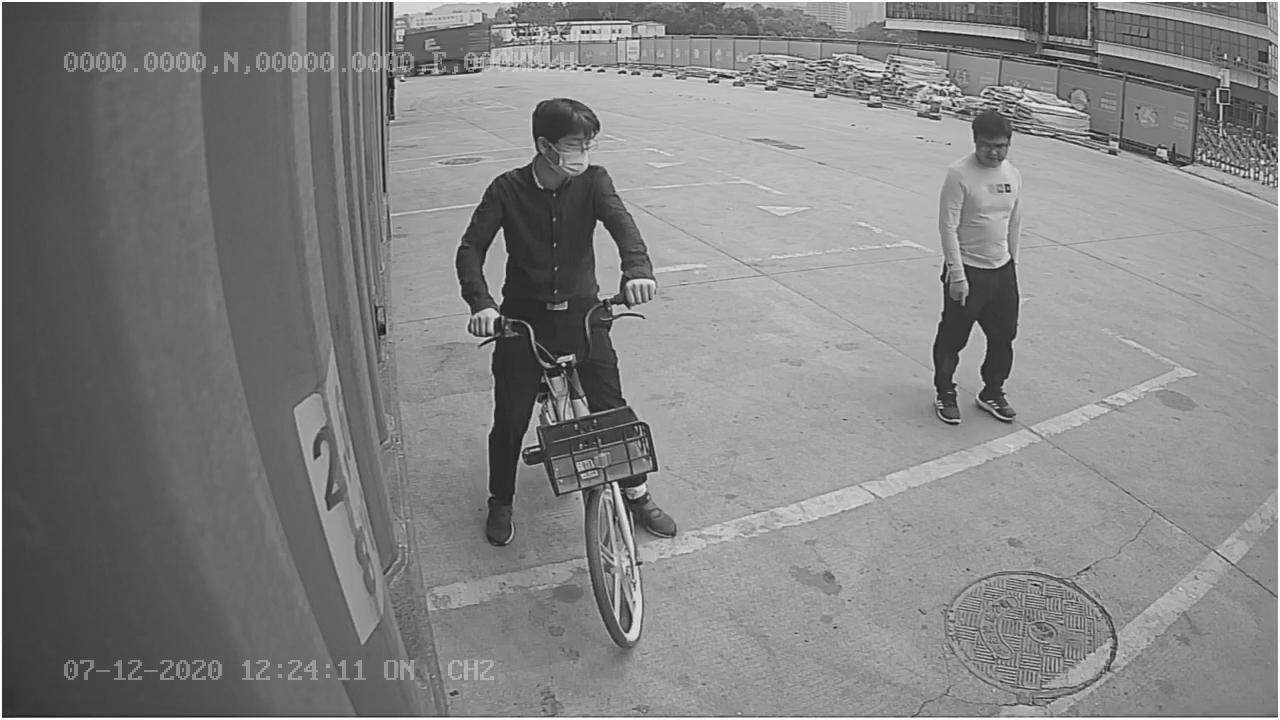person: (929, 108, 1033, 430)
